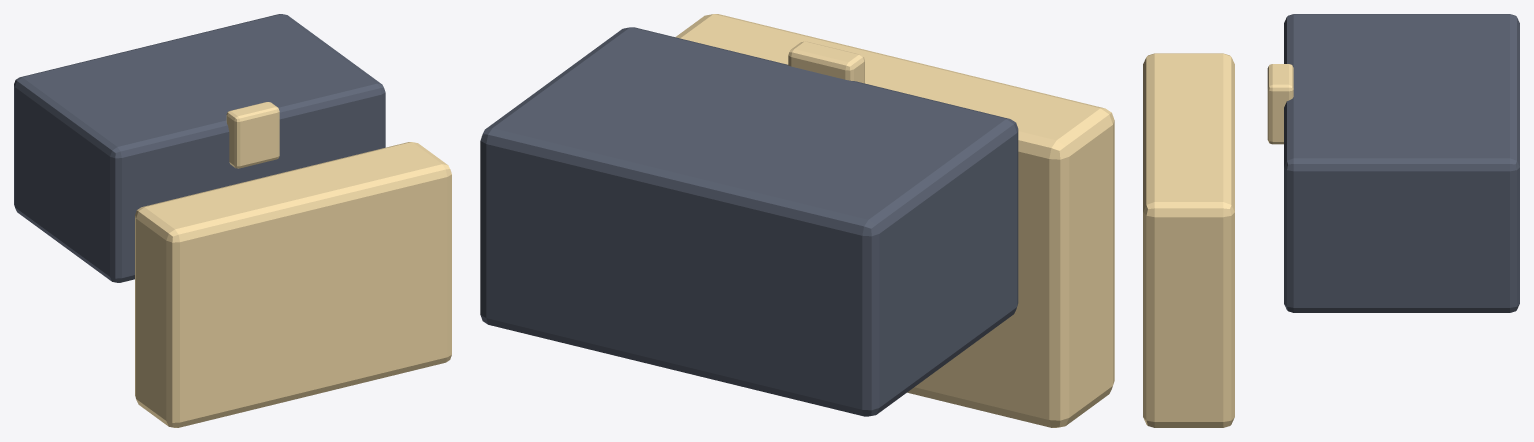
Rendered from Env_GoldenChest.fbx.
3 renders of one model, left to right at view 1: azimuth 30°, elevation 25°; view 2: azimuth 150°, elevation 25°; view 3: azimuth 270°, elevation 25°, orthographic. The views are drawn at different scales.
Visible parts, largest first — view 1: LidTop, ChestBase, ChestLock; view 2: ChestBase, LidTop, ChestLock; view 3: ChestBase, LidTop, ChestLock.
Boxes of the visible parts, x1,y1,x2,y2 form: LidTop: [135, 142, 451, 427]; ChestBase: [14, 14, 385, 282]; ChestLock: [226, 102, 279, 168]; ChestBase: [480, 27, 1018, 416]; LidTop: [675, 14, 1114, 427]; ChestLock: [788, 41, 864, 83]; ChestBase: [1284, 14, 1519, 312]; LidTop: [1143, 53, 1234, 427]; ChestLock: [1267, 64, 1293, 144].
Size of the model in its own units: 1.14 by 0.94 by 1.15.
